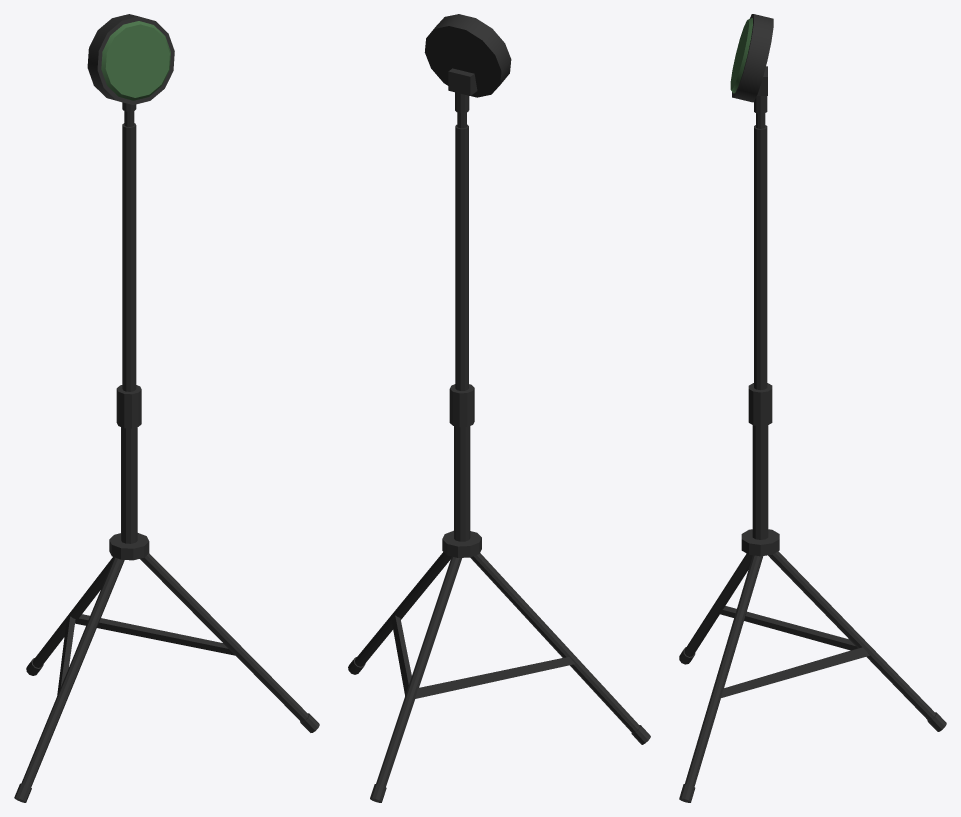
File: BotonReflejo 1.fbx
3 views of the same model, side by side, from view 1: azimuth 30°, elevation 25°; view 2: azimuth 150°, elevation 25°; view 3: azimuth 270°, elevation 25° (orthographic).
Visible parts, largest first — view 1: Soporte, Boton; view 2: Soporte, Boton; view 3: Soporte, Boton.
Boxes of the visible parts, box(x1,y1,x2,y2) form: Soporte: box(14, 102, 319, 802); Boton: box(87, 14, 174, 104); Soporte: box(348, 68, 650, 802); Boton: box(424, 14, 511, 97); Soporte: box(679, 66, 946, 802); Boton: box(730, 14, 773, 102).
Bounding box in the file's own units: 16.35 × 37.29 × 12.65.
